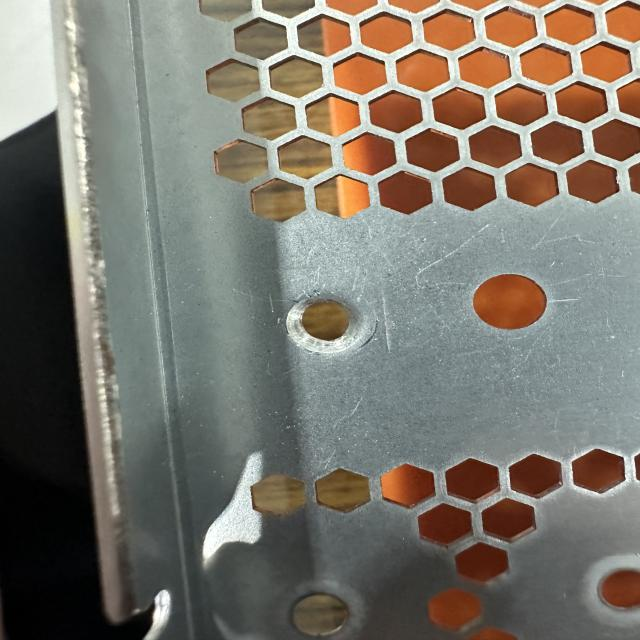Missing screw: (262, 283, 379, 371)
